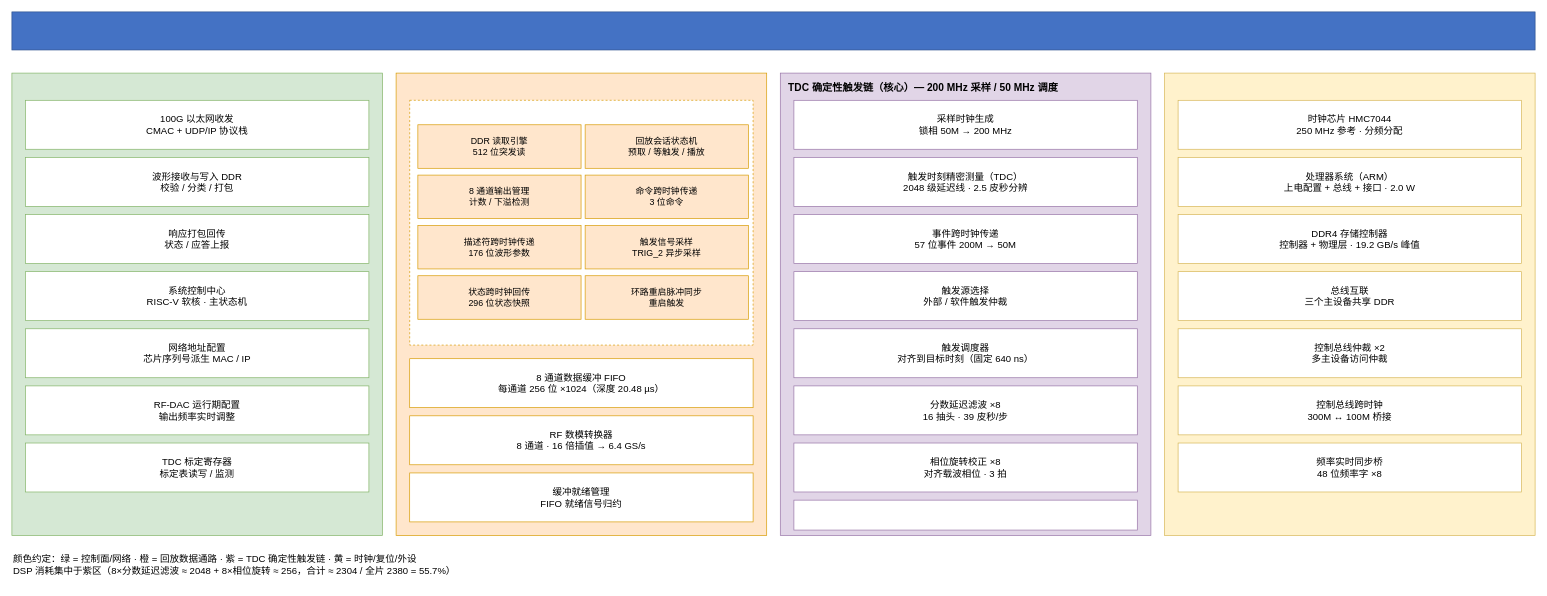
The diagram is 1547 pixels wide and 596 high, and some of its shapes have lost their labels. The box of each missing label's shape, as (x1, y1, x2, y2) in pixels:
XCZU47DR 单板波形系统 — 模块分解图: (11, 11, 1535, 50)
回放控制通路（内部 8 个子模块）: (409, 100, 753, 345)
回放数据通路（核心）— DDR 300M → DAC 50M: (395, 72, 767, 536)
控制面 / 网络 — 300.12 MHz: (11, 72, 382, 536)
时钟 / 复位 / 外设: (1164, 72, 1535, 536)
正余弦查找表 ×8 · 标定相位源 14 位 ROM: (793, 499, 1137, 530)
